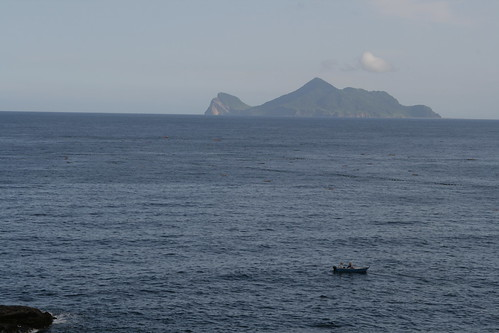turtleIslandLeft: (205, 78, 444, 120)
